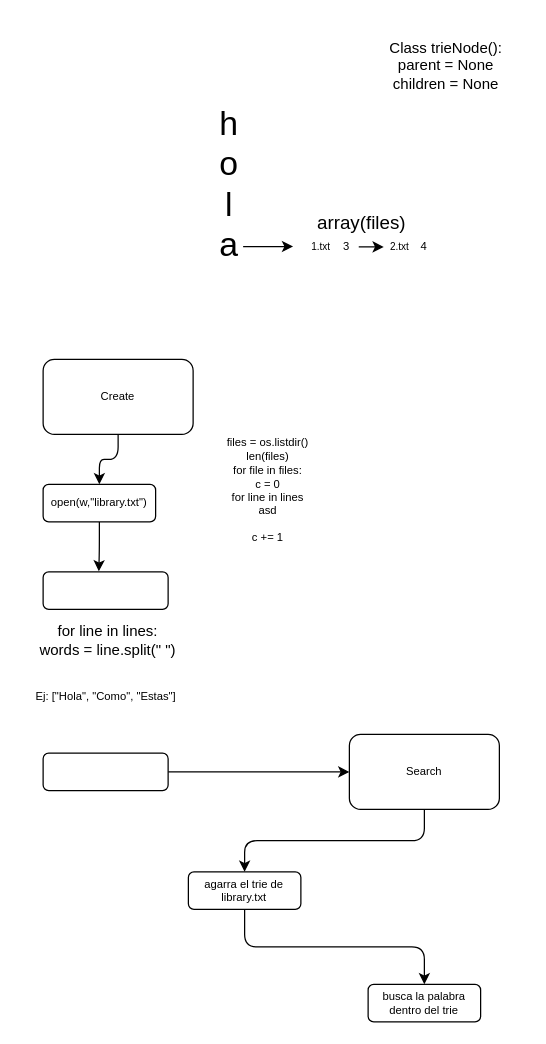
This 546x1044 diagram has some shape labels left out. The centre of each missing label's shape, as x and y in pixels:
"guardar palabras en trie" belongs at (x=105, y=590).
"guardar trie en library.txt" belongs at (x=105, y=771).
